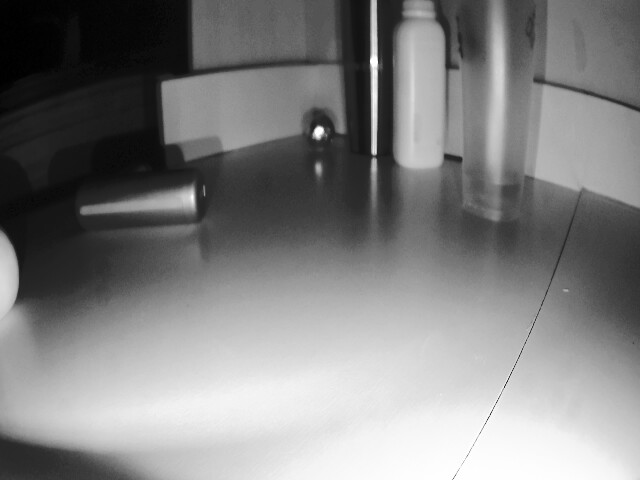black: (304, 116, 337, 151)
